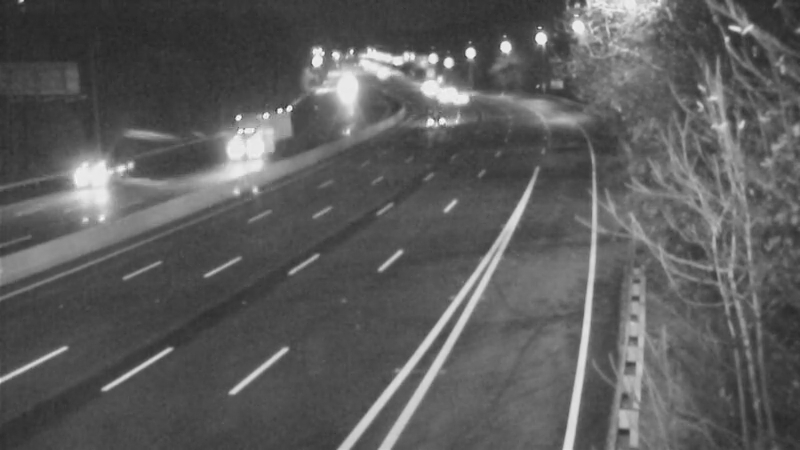vehicle: (58, 138, 138, 218), (401, 63, 451, 113), (415, 68, 465, 118), (435, 74, 485, 124), (406, 95, 456, 145), (212, 119, 262, 169)
